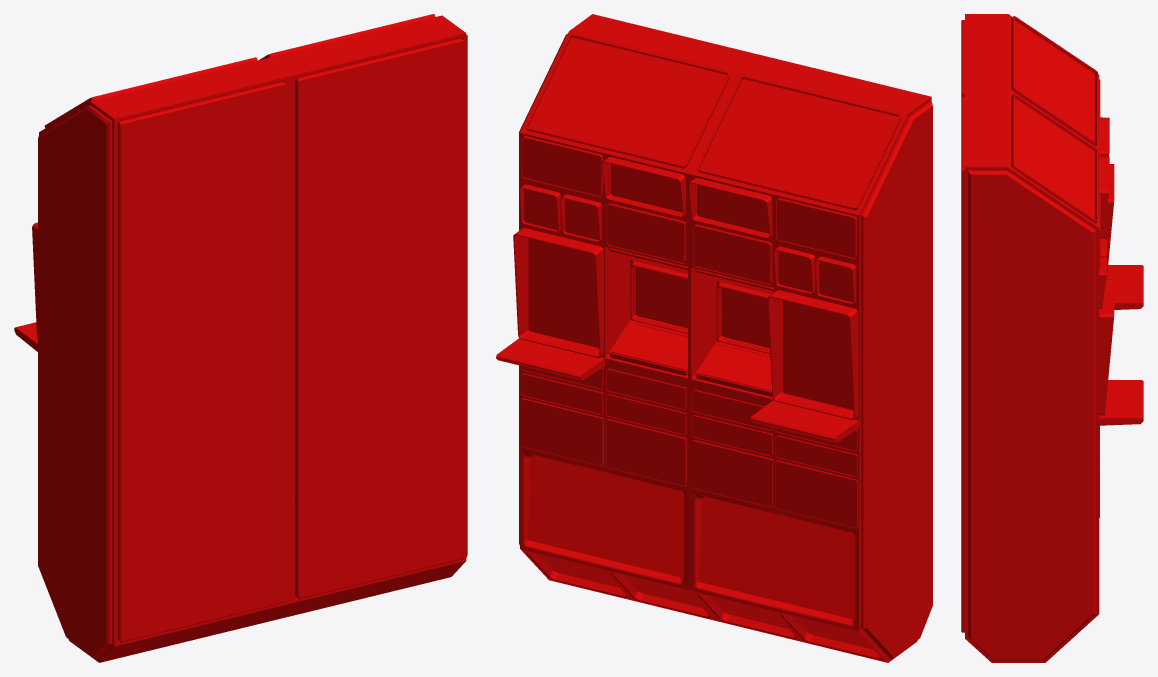
File: Terminal_11.fbx
3 views of the same model, side by side, from view 1: azimuth 30°, elevation 25°; view 2: azimuth 150°, elevation 25°; view 3: azimuth 270°, elevation 25° (orthographic). The views are drawn at different scales.
Visible parts, largest first — view 1: L15:polySurface1; view 2: L15:polySurface1; view 3: L15:polySurface1.
Part boxes in pixels (<box>): L15:polySurface1: <box>14,14,467,662</box>; L15:polySurface1: <box>496,14,932,662</box>; L15:polySurface1: <box>961,14,1143,662</box>.
Bounding box in the file's own units: 189 × 278 × 92.63.
